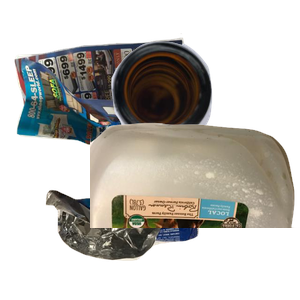glass: (109, 39, 300, 175)
paper: (12, 31, 196, 204)
plastic: (90, 120, 300, 300)
trash: (43, 187, 234, 300)
